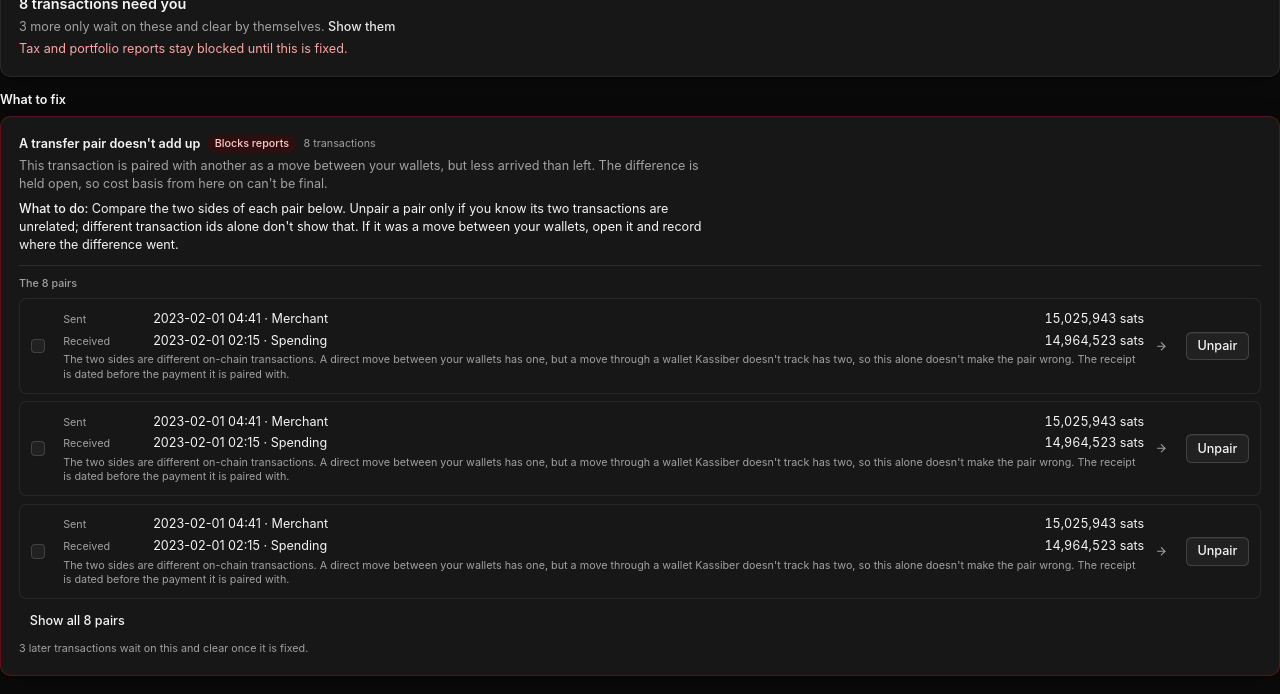
Test: unpairing pairs that leave a suspense › folds a long list of pairs
Expected: the text "Sent" is shown 3 times, [63, 313, 86, 326]; [63, 416, 86, 429]; [63, 518, 86, 531]
Click the button "Show all 8 pairs". click: coordinates (77, 621)
box: [19, 606, 136, 635]
(page scrolled)
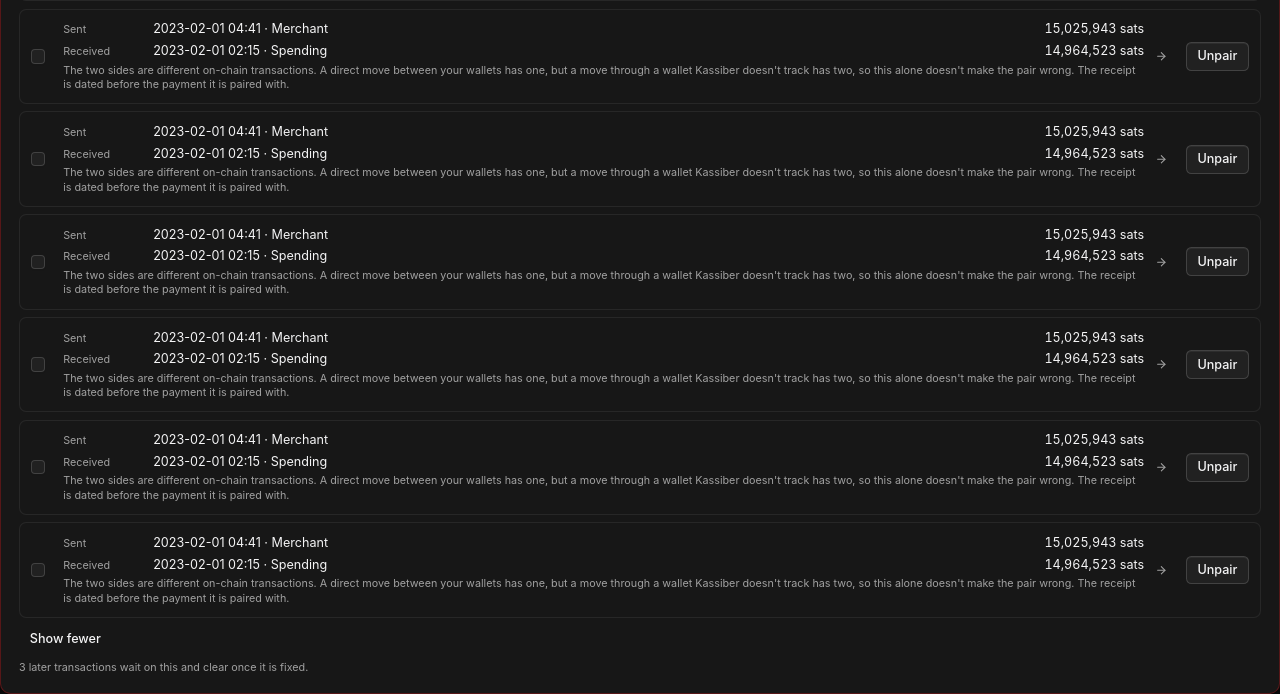
Now the text "Sent" is shown 8 times
Now the number of buttons "Unpair" is 8
Click the button "Show fewer". click: coordinates (65, 639)
box: [19, 625, 112, 654]
(page scrolled)
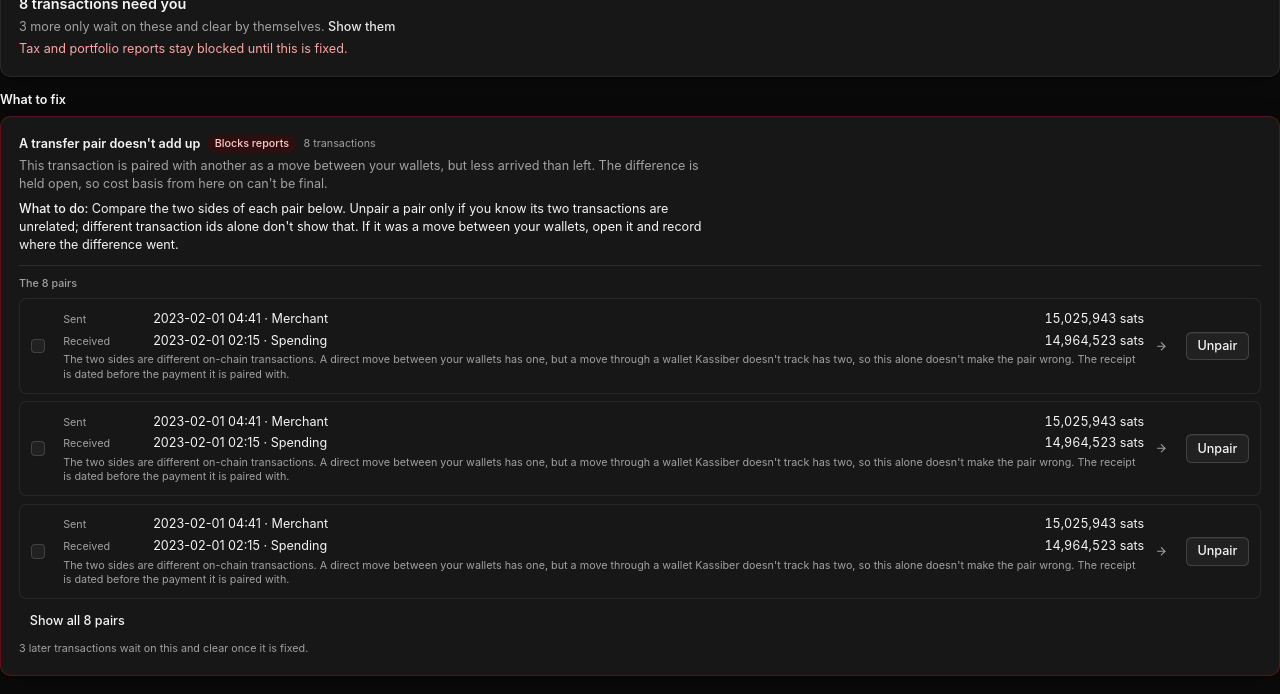
Now the text "Sent" is shown 3 times, box [63, 313, 86, 326]; [63, 416, 86, 429]; [63, 518, 86, 531]
